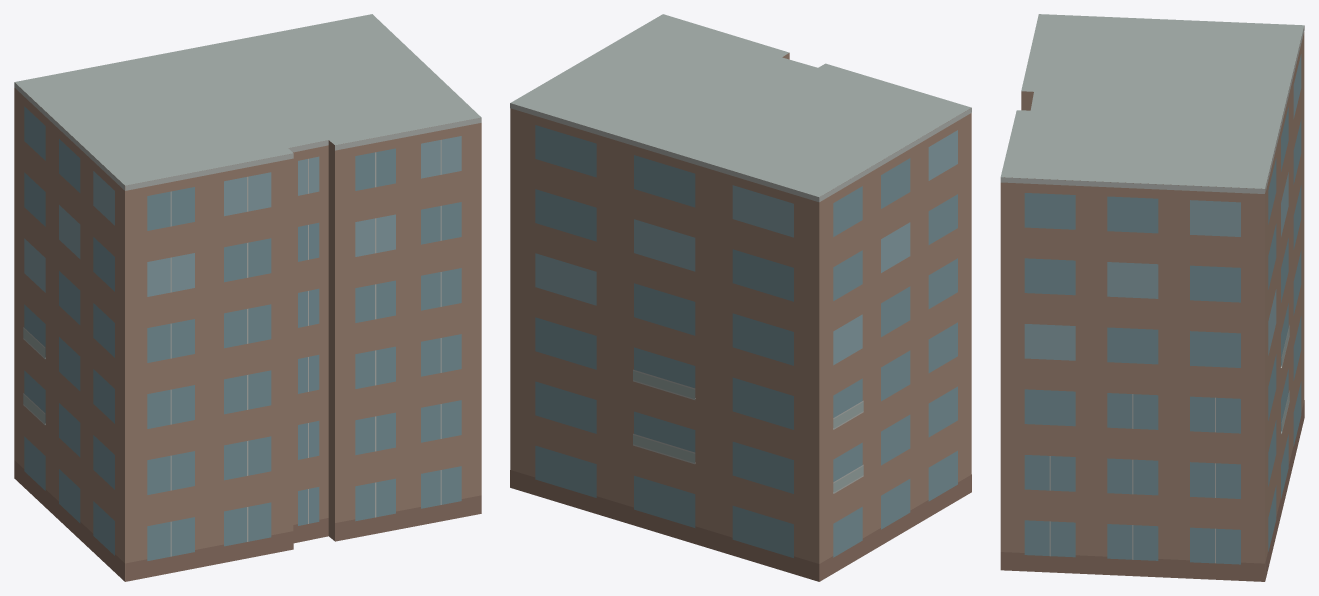
File: survey-upis-32661511.glb
The picture shows the model from 3 angles, left to right: view 1: azimuth 30°, elevation 25°; view 2: azimuth 150°, elevation 25°; view 3: azimuth 270°, elevation 25°; orthographic projection. The views are drawn at different scales.
Visible parts, largest first — view 1: survey-upis-32661511.tmp; view 2: survey-upis-32661511.tmp; view 3: survey-upis-32661511.tmp.
Part boxes in pixels (box(x1,y1,x2,y2)): survey-upis-32661511.tmp: box(14, 14, 481, 581); survey-upis-32661511.tmp: box(510, 14, 971, 581); survey-upis-32661511.tmp: box(1000, 14, 1304, 581).
Bounding box in the file's own units: 17.48 × 18.3 × 12.83.
